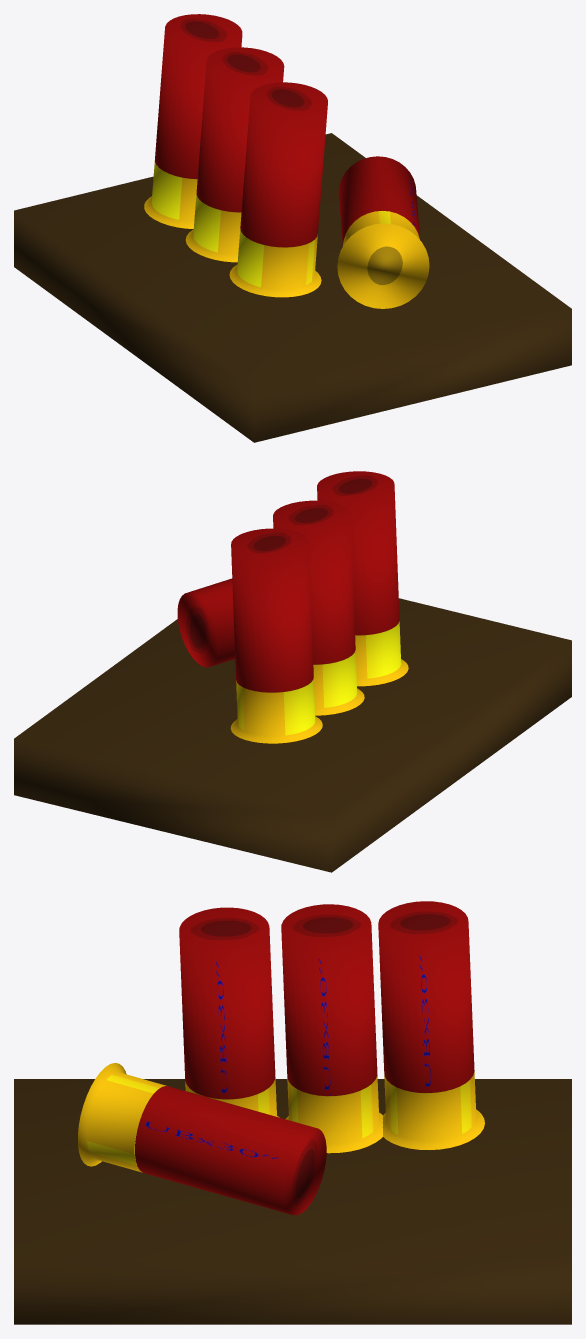
Rendered from escopeta_off.fbx.
3 views of the same model, one above another, from view 1: azimuth 30°, elevation 25°; view 2: azimuth 150°, elevation 25°; view 3: azimuth 270°, elevation 25° (orthographic). The views are drawn at different scales.
Parts seen in each view (by area): view 1: Cube; view 2: Cube; view 3: Cube.
Boxes of the visible parts, x1,y1,x2,y2 form: Cube: (14,14,571,442); Cube: (14,471,571,872); Cube: (14,901,571,1324).
Size of the model in its own units: 0.5492 by 0.4209 by 0.719.
